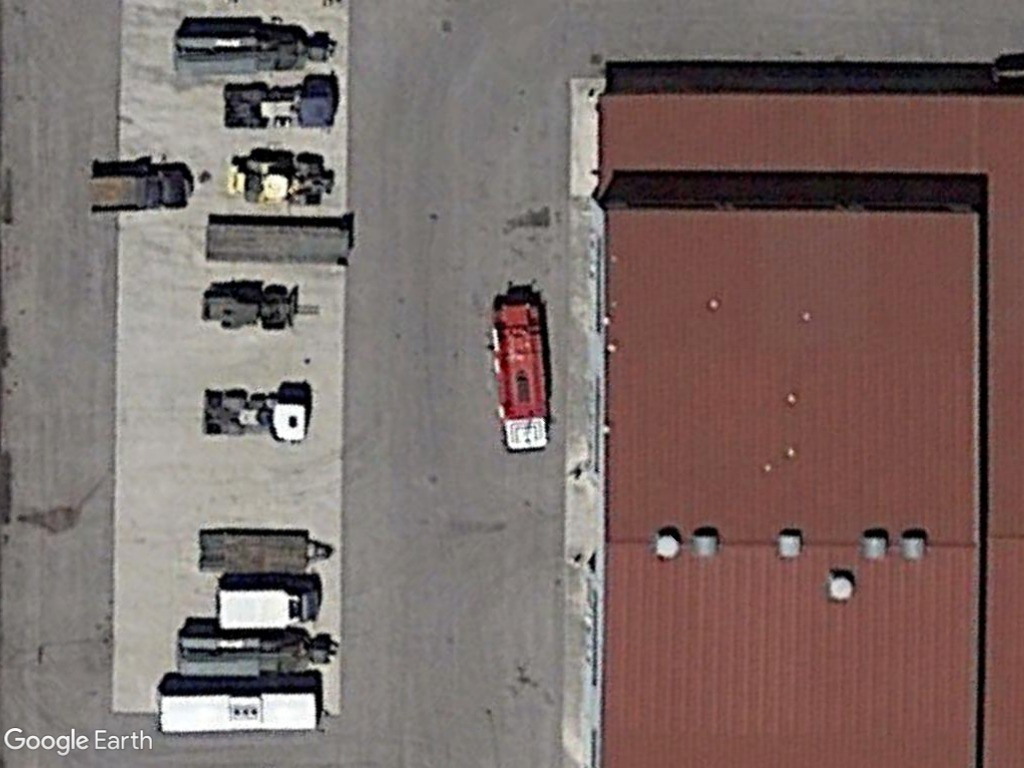bus: (155, 678, 324, 740)
other: (87, 165, 195, 217)
truck: (489, 295, 560, 456), (213, 580, 325, 637)
